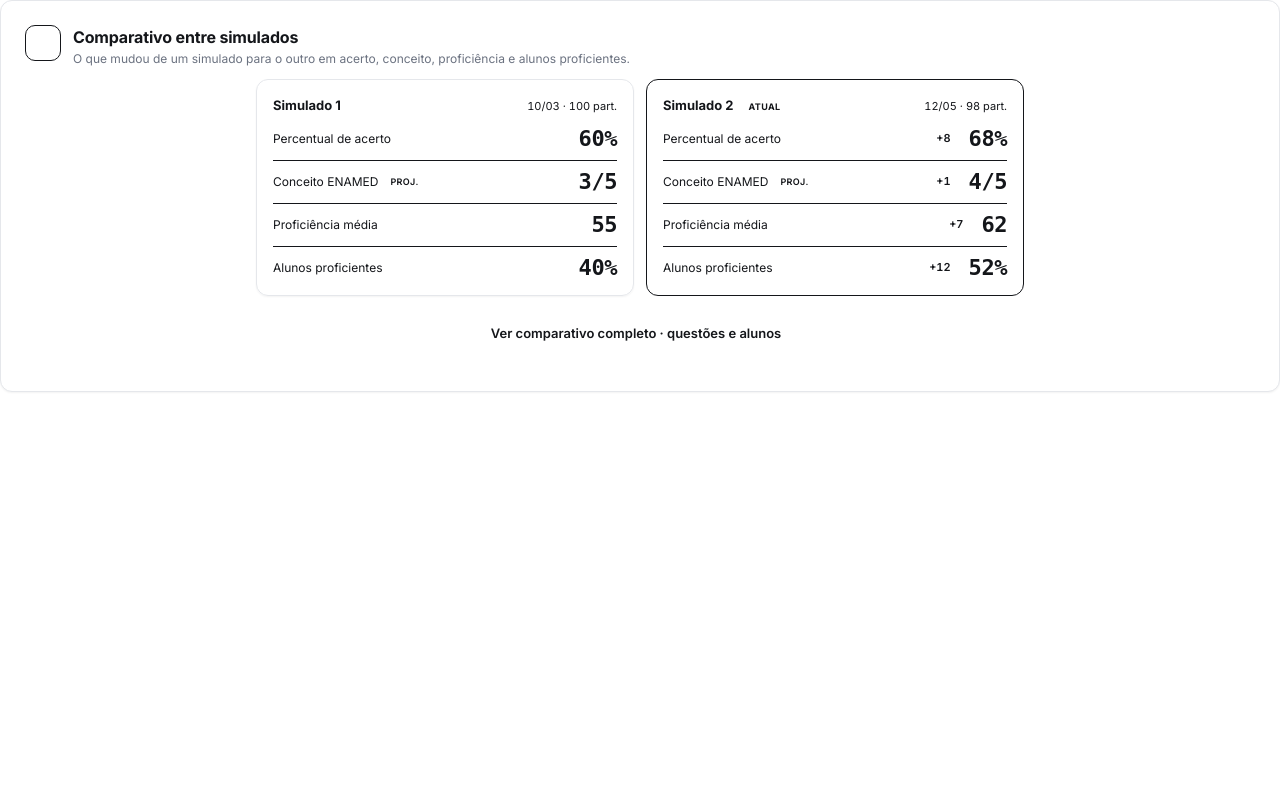
Test: ComparativoSimulados › sem comparativo por tema o expandido diz que não há dado, sem inventar número (§4.10)
This screenshot has width=1280, height=800.
Step 1. Click the button "Ver comparativo completo · questões e alunos" → (640, 333), box [25,312,1255,355]
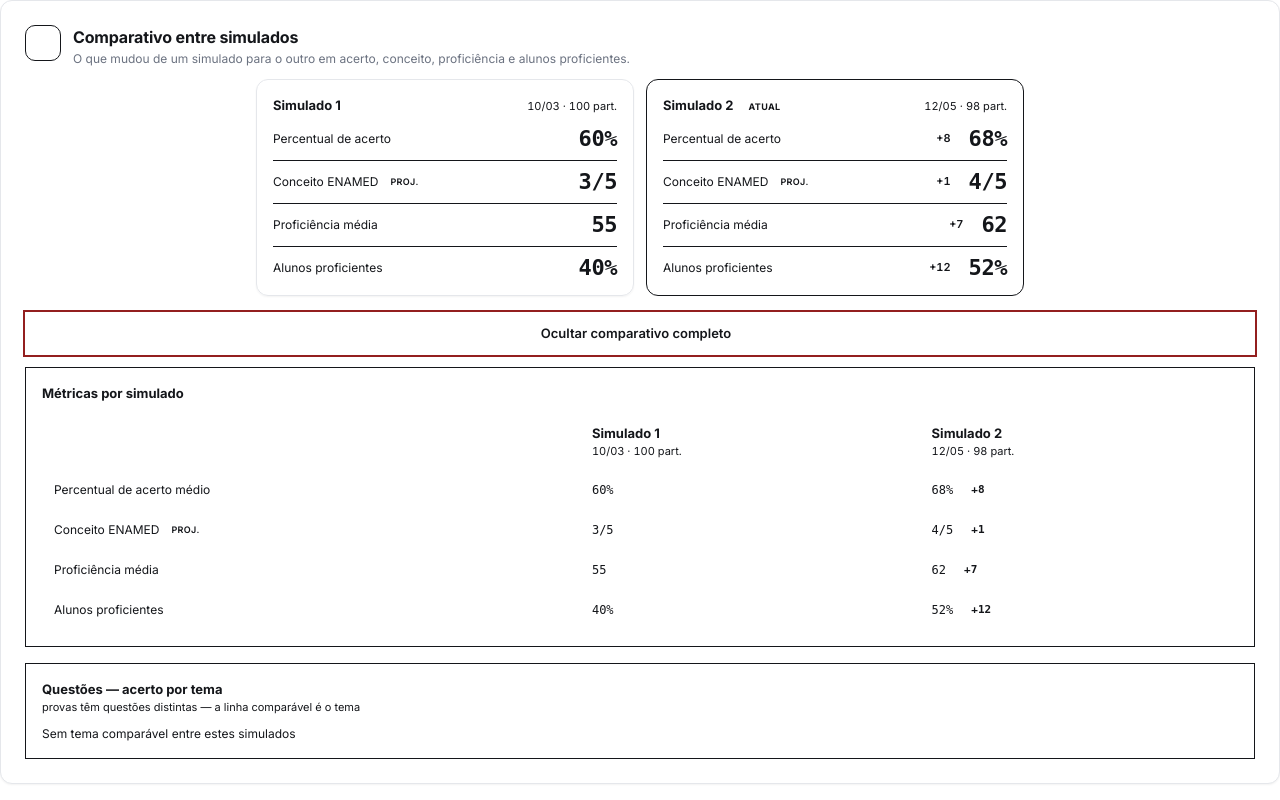
Check: the text with test id "comparativo-temas-vazio" reads "Sem tema comparável entre estes simulados", box [42,726,296,740]
